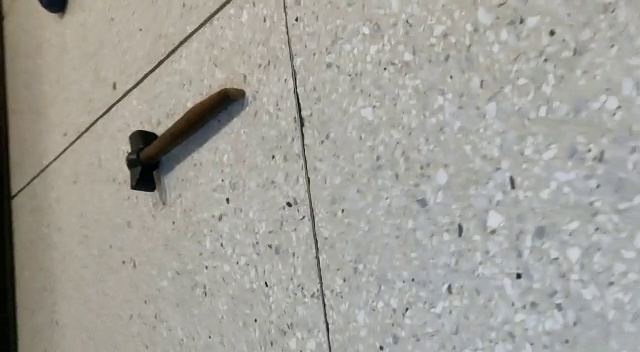hammer: (123, 83, 248, 197)
